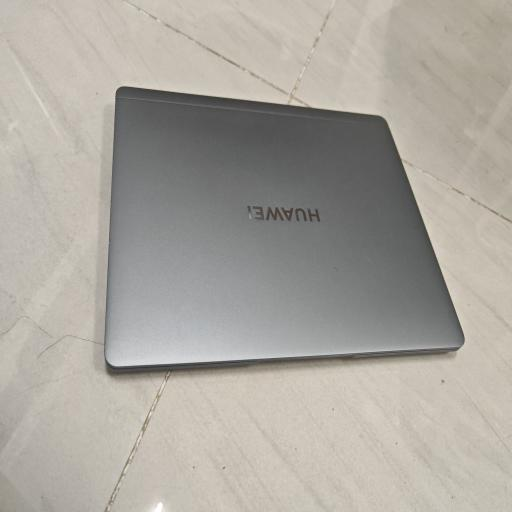laptop: (104, 87, 464, 368)
